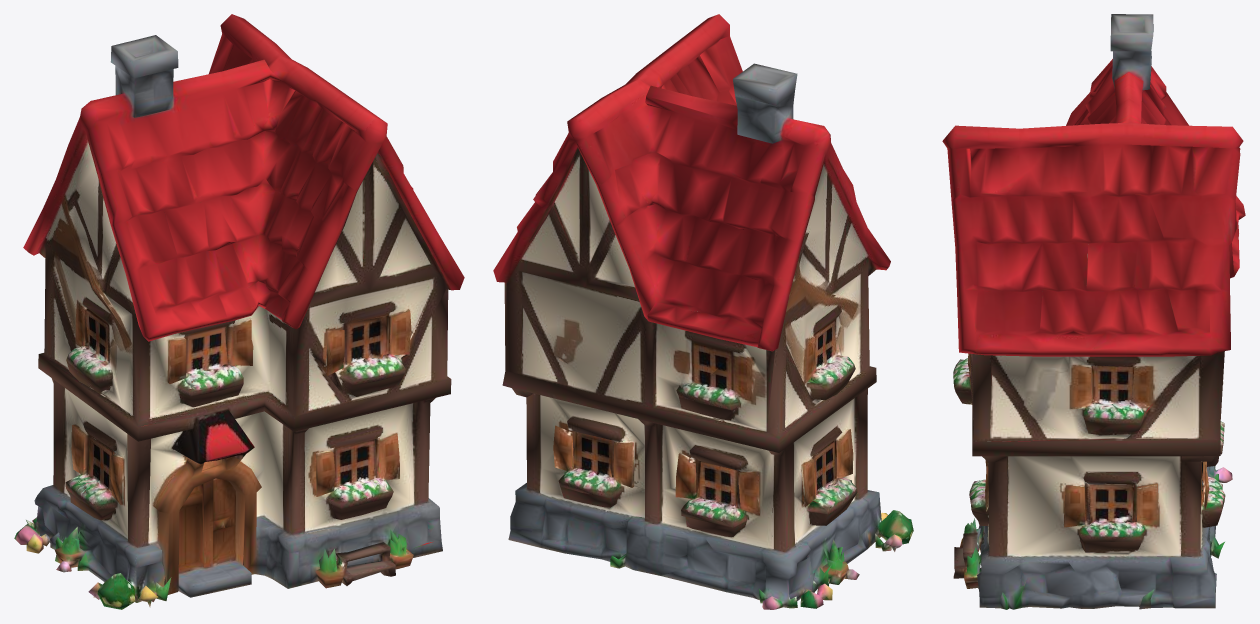
Rendered from house_terra_6.glb.
3 views of the same model, side by side, from view 1: azimuth 30°, elevation 25°; view 2: azimuth 150°, elevation 25°; view 3: azimuth 270°, elevation 25° (orthographic). The views are drawn at different scales.
Parts seen in each view (by area): view 1: ЦІЛЬ; view 2: ЦІЛЬ; view 3: ЦІЛЬ.
Part boxes in pixels (box(x1,y1,x2,y2)): ЦІЛЬ: box(14, 14, 464, 609); ЦІЛЬ: box(493, 14, 913, 609); ЦІЛЬ: box(942, 14, 1245, 609).
Size of the model in its own units: 1.48 by 2.1 by 1.2.
1 material, 1 textured.
